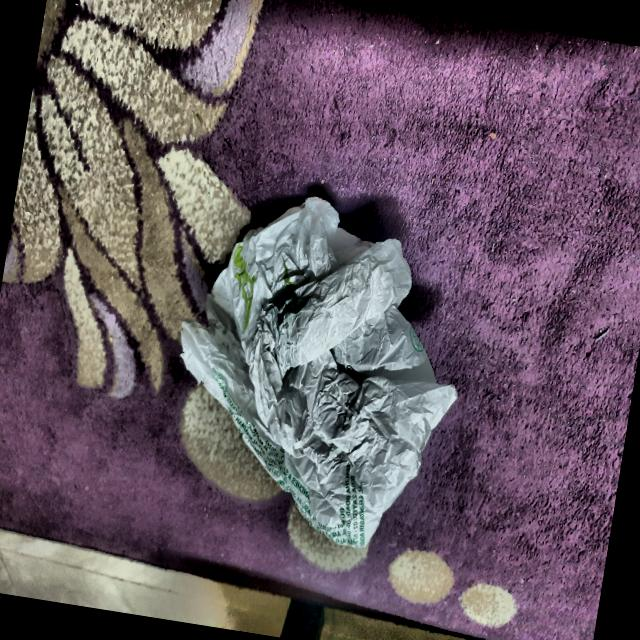plastic bag: (140, 160, 501, 580)
